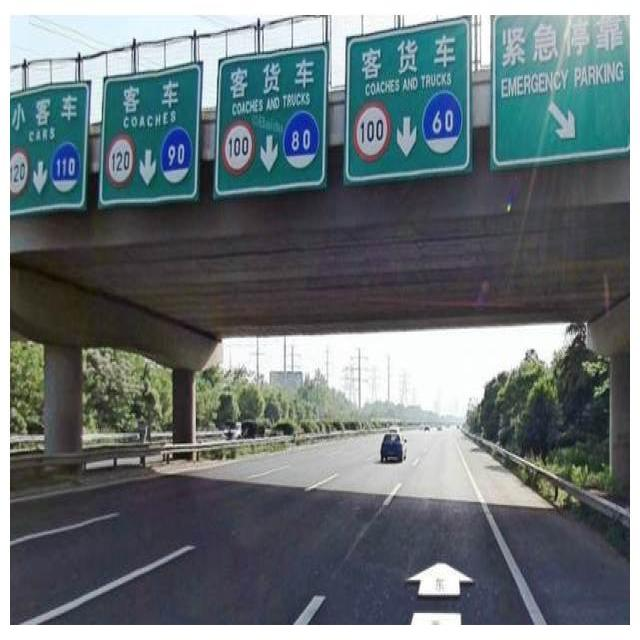speed limit 100: (352, 100, 391, 162), (221, 120, 255, 175)
speed limit 110: (50, 143, 79, 193)
speed limit 120: (105, 133, 135, 186), (9, 149, 30, 195)
speed limit 60: (420, 91, 462, 156)
speed limit 80: (283, 111, 320, 171)
speed limit 90: (158, 127, 193, 184)
